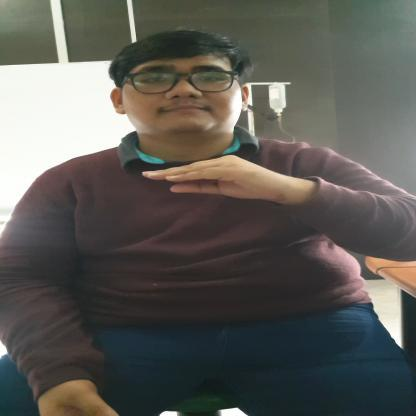Pagi: (138, 152, 308, 202)
